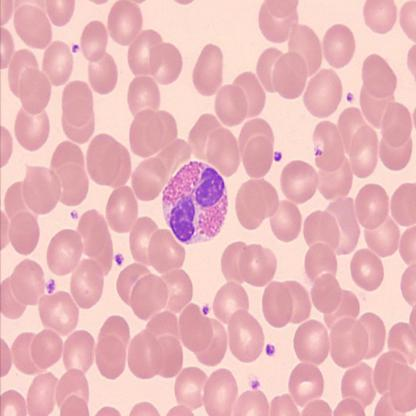Eosinophil: (162, 157, 229, 247)
